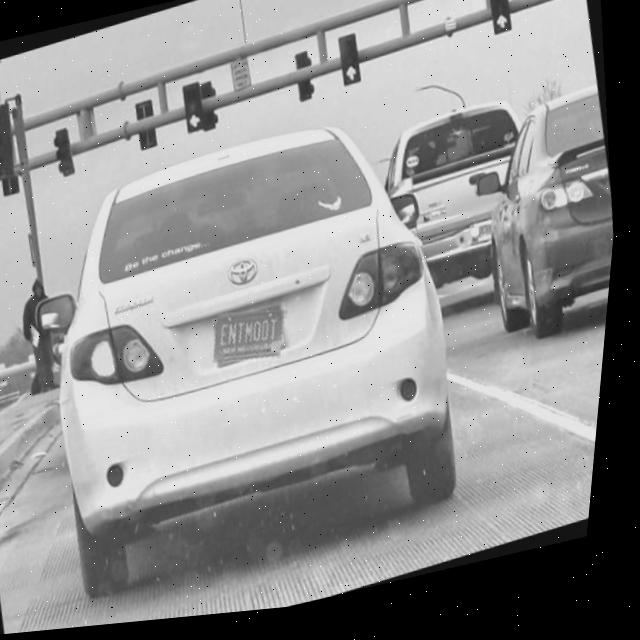LicensePlate: (222, 316, 292, 368)
